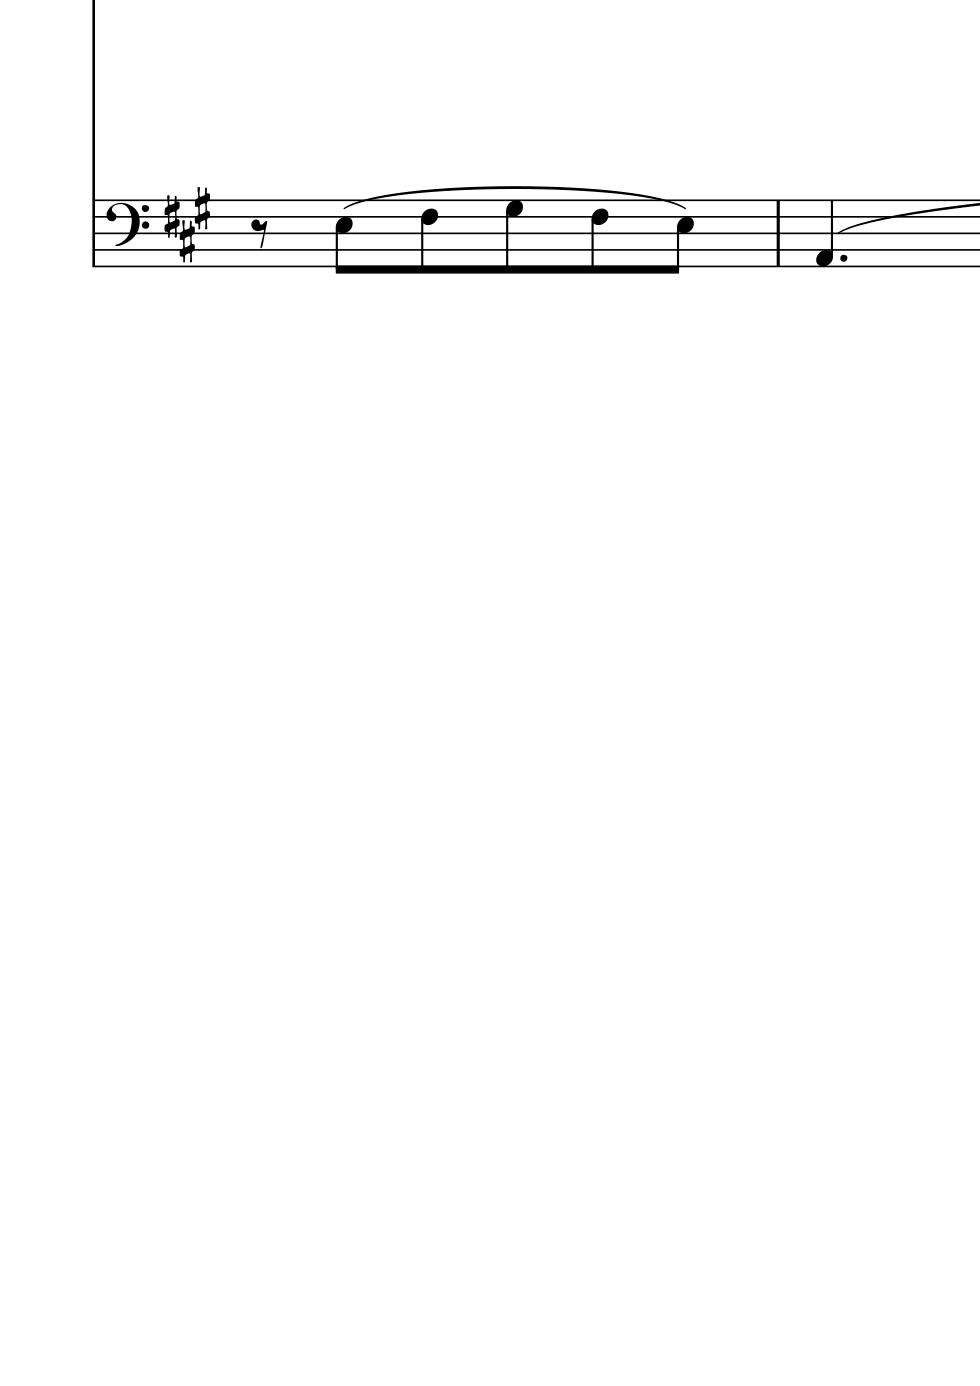4_1: (815, 199, 835, 268)
8_5: (670, 200, 693, 275), (335, 199, 353, 275)
8_6: (419, 199, 437, 275), (587, 196, 605, 271)
8_7: (505, 197, 523, 273)
A_S: (160, 185, 214, 264)
Fclef: (106, 199, 151, 270)
Rests8: (249, 216, 268, 249)
Single_barline: (770, 200, 786, 267), (86, 200, 101, 267)
Slur: (339, 185, 695, 208)
dot: (837, 252, 848, 264)
